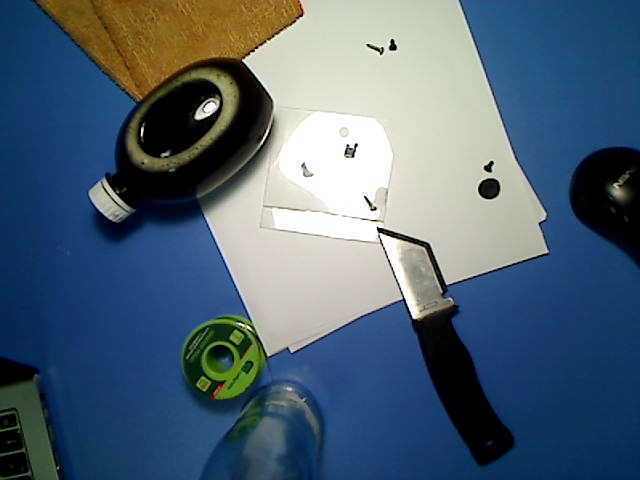plast_bottle: (85, 52, 279, 229)
